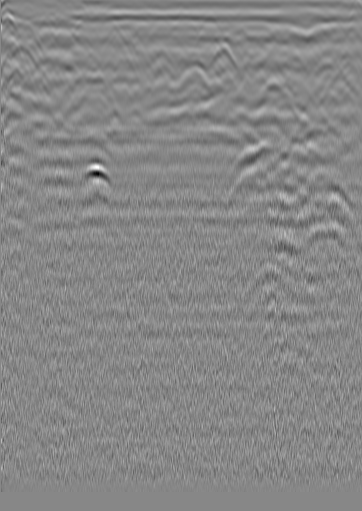가스: (77, 162, 111, 186)
상수: (327, 14, 347, 34)
오수: (16, 20, 36, 40)
우수: (179, 18, 199, 38)
